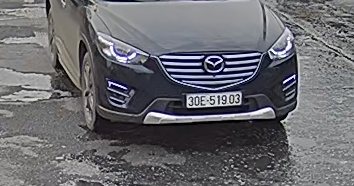vehicle plate: (183, 90, 251, 111)
